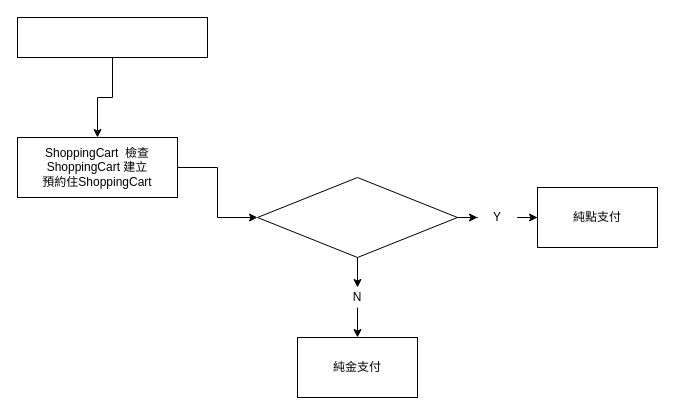
Image size: 675x415. Some labels were removed from this diagram. The centre of each missing label's shape, as x and y in pixels:
"建立 ExchangePresaleApiModel" goes at point 112,37.
"點數類型 PointType.OpenPoint" goes at point 357,217.
